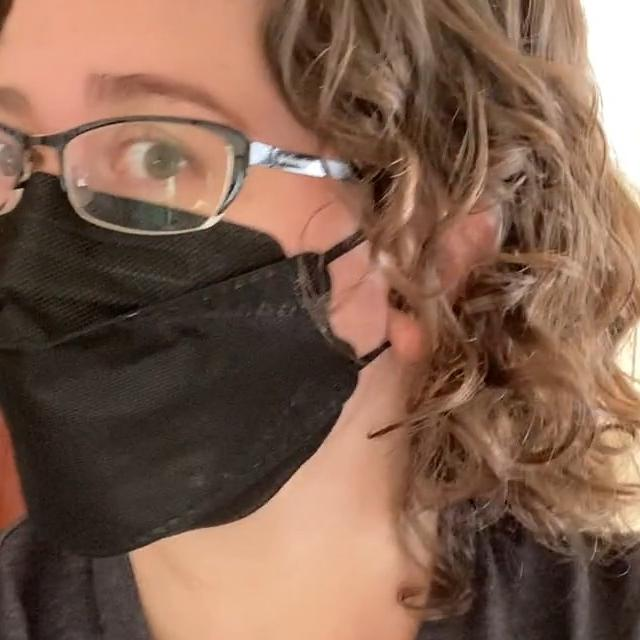Mask: (0, 174, 404, 554)
NO-Hardhat: (0, 0, 563, 67)
Person: (0, 0, 640, 640)
